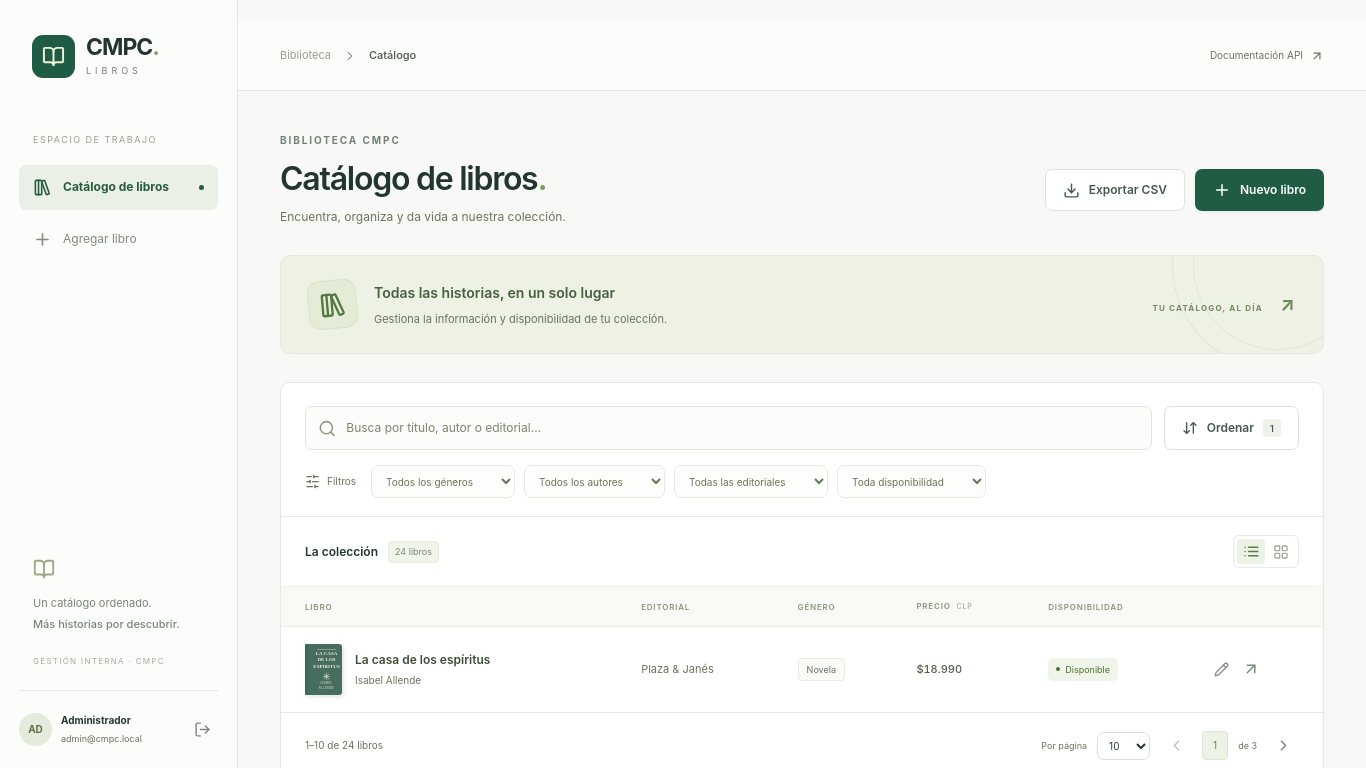
it: Catálogo › no consulta en cada tecla y permite limpiar búsqueda
In the field named "Buscar libros": coordinates (742, 428) [346, 407, 1139, 449], type "hist"
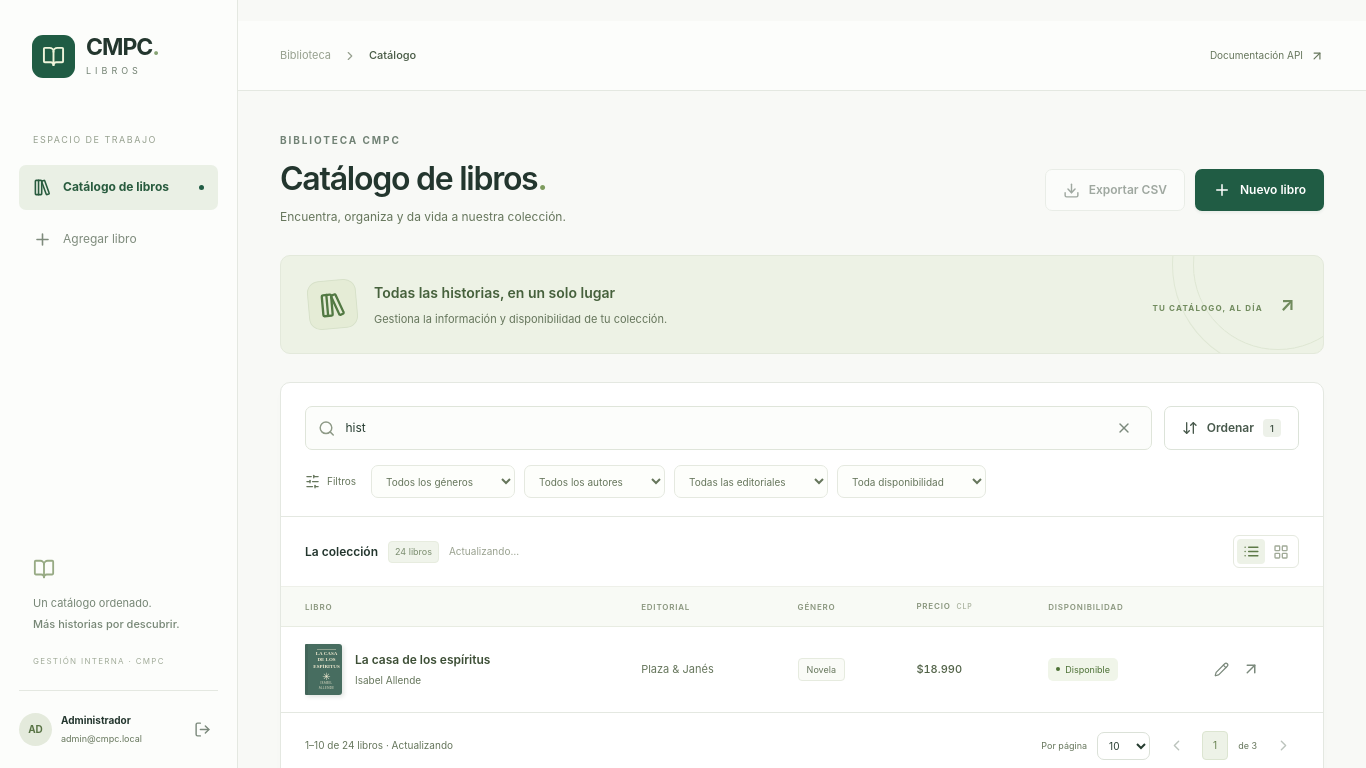
Replace the text in the field named "Buscar libros" with "historia": coordinates (722, 428) [345, 407, 1099, 449]
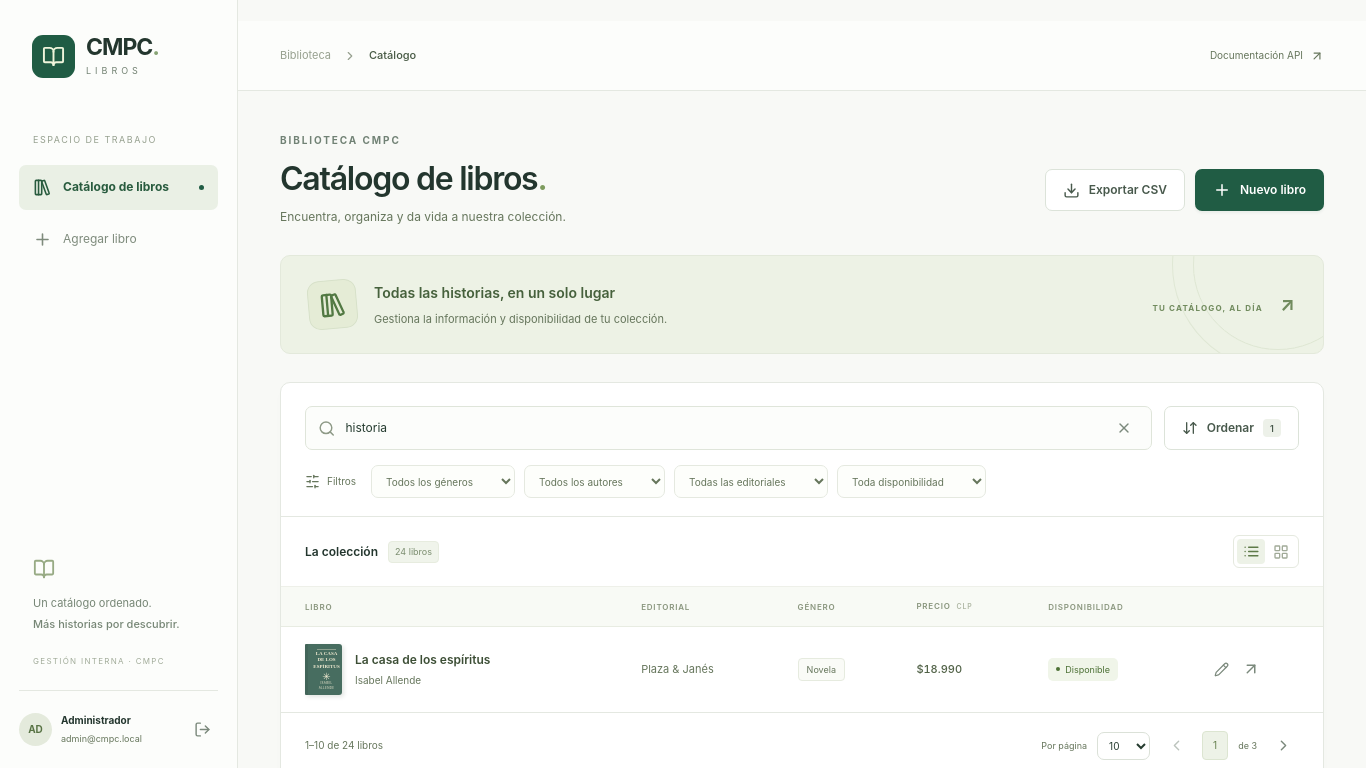
Click the button named "Limpiar búsqueda": coordinates (1124, 428) [1109, 412, 1139, 444]
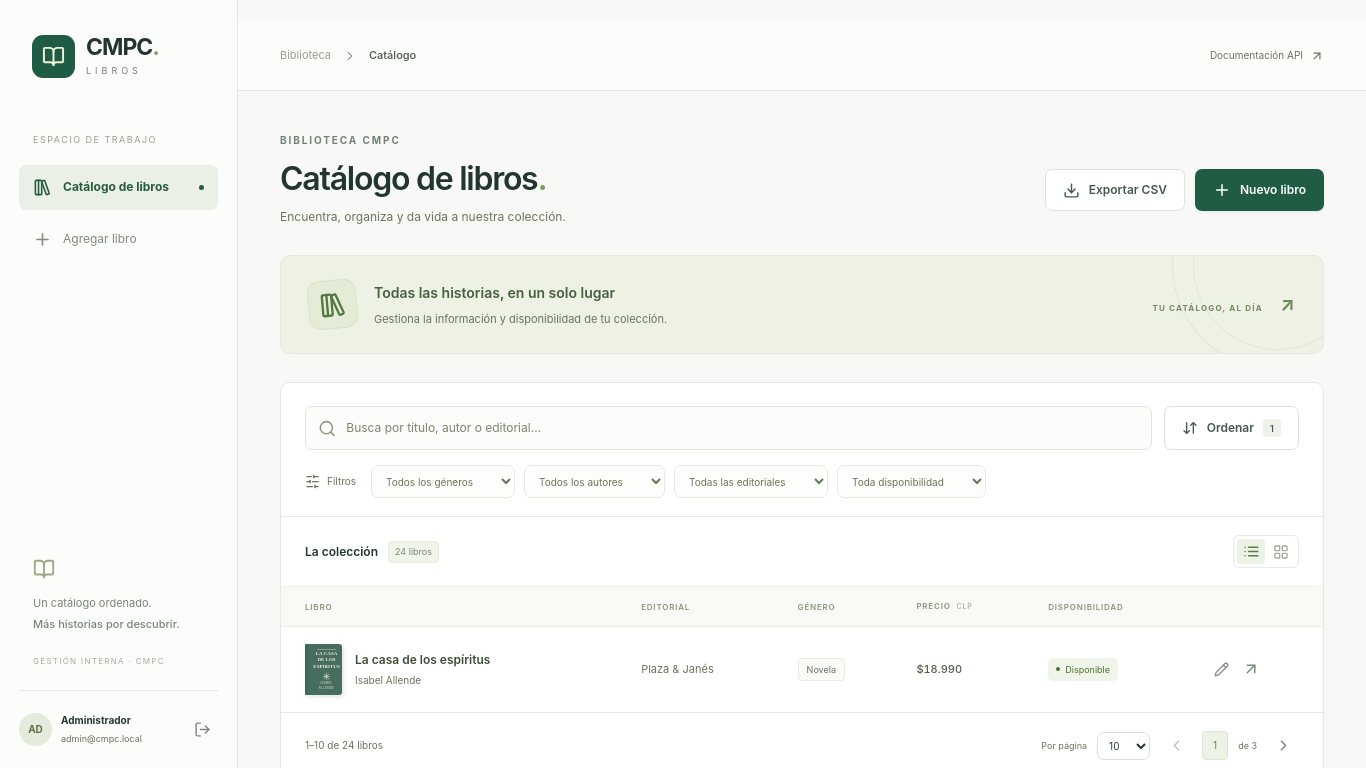
Expected: the field named "Buscar libros" is empty, [346, 407, 1139, 449]
